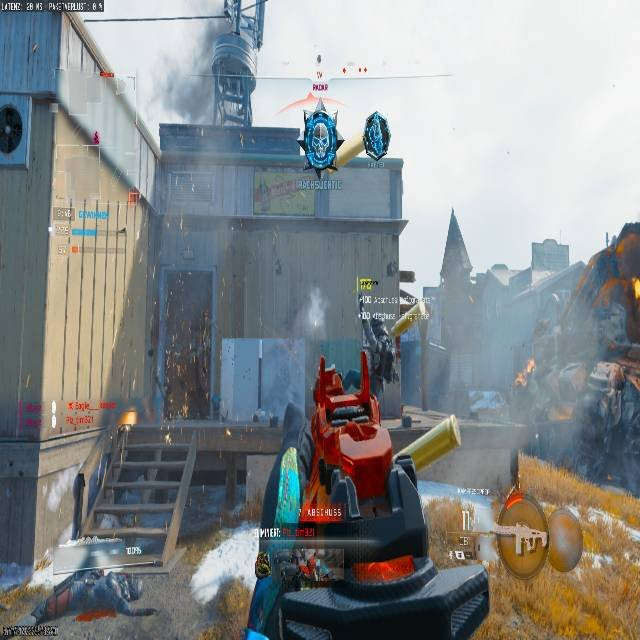head: (397, 289, 414, 305)
player: (385, 291, 424, 414), (367, 327, 395, 383)
